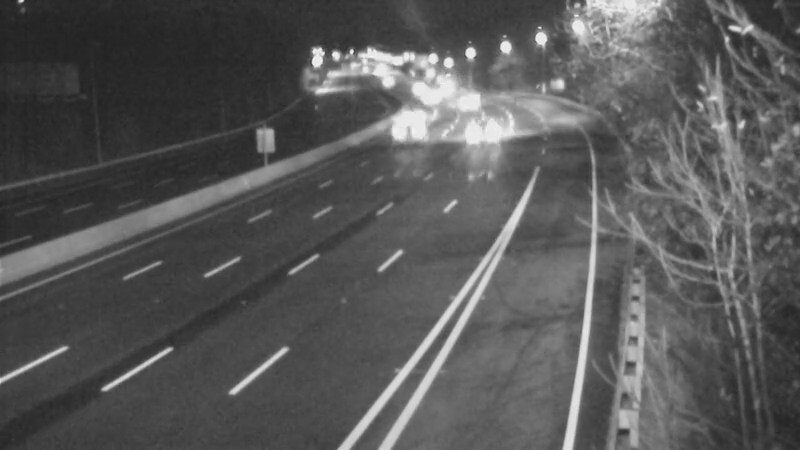vehicle: (420, 65, 470, 115), (404, 72, 454, 122), (437, 75, 487, 125), (390, 92, 440, 142), (455, 109, 505, 159), (384, 107, 434, 157)
